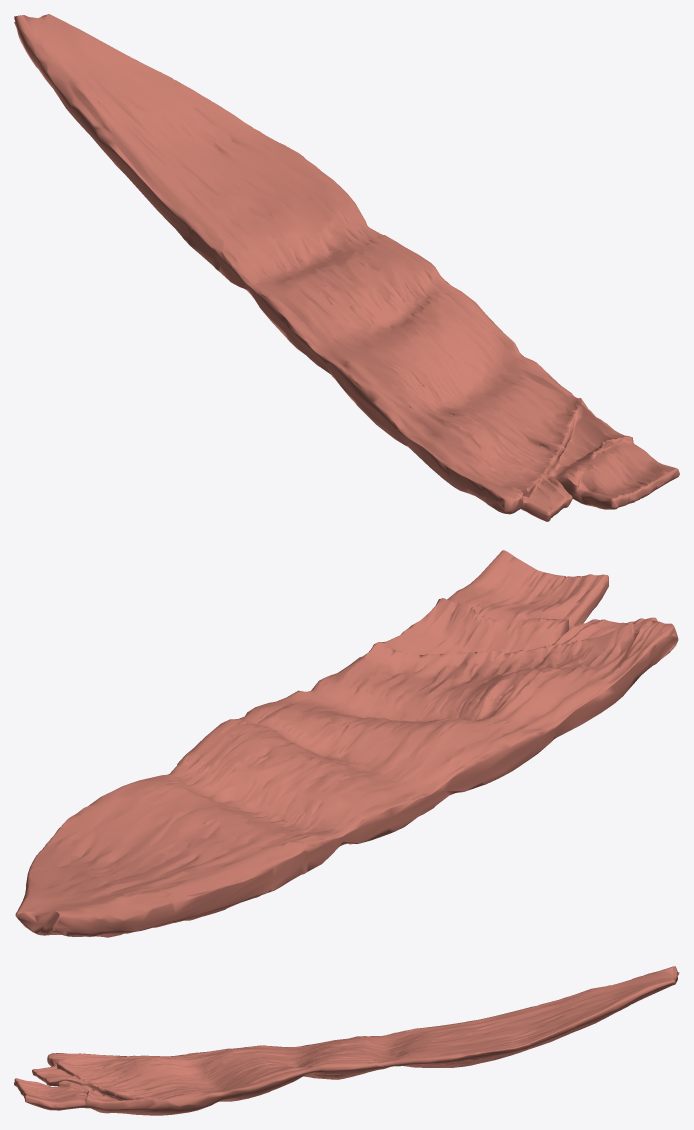
3 renders of one model, top to bottom at view 1: azimuth 30°, elevation 25°; view 2: azimuth 150°, elevation 25°; view 3: azimuth 270°, elevation 25°, orthographic. The views are drawn at different scales.
Parts seen in each view (by area): view 1: 左侧腹直肌; view 2: 左侧腹直肌; view 3: 左侧腹直肌.
Boxes of the visible parts, x1,y1,x2,y2 form: 左侧腹直肌: [14, 14, 679, 521]; 左侧腹直肌: [15, 550, 678, 937]; 左侧腹直肌: [14, 966, 679, 1115].
Size of the model in its own units: 0.1158 by 0.11 by 0.6018.
